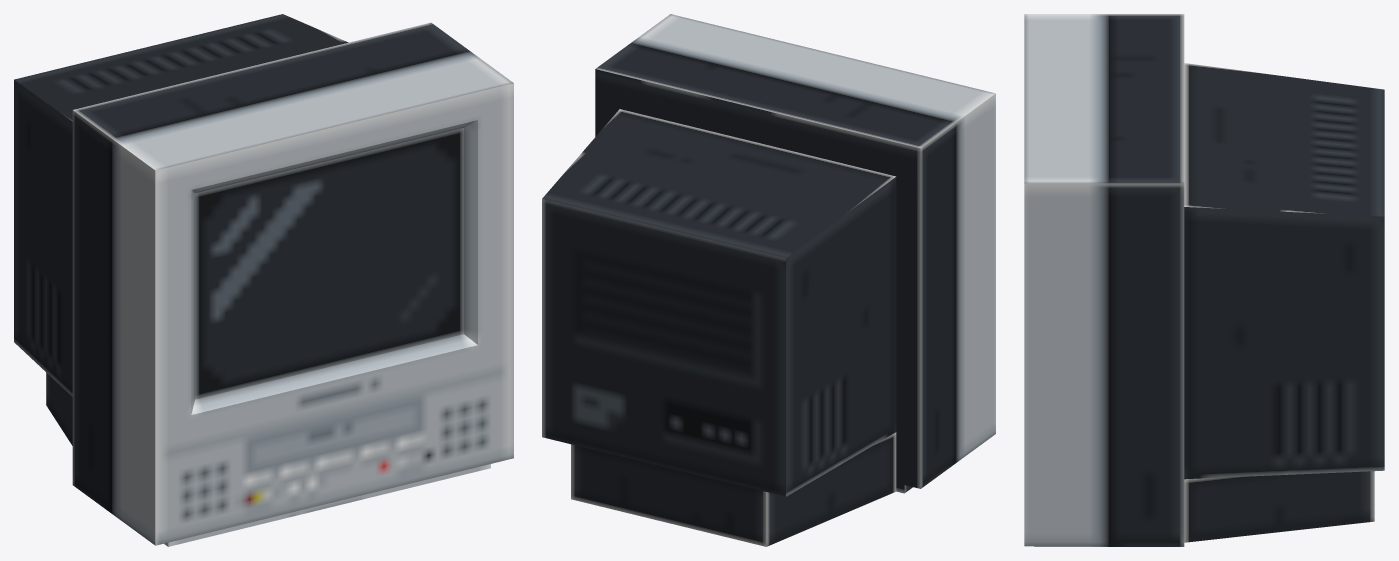
File: crt.obj
3 views of the same model, side by side, from view 1: azimuth 30°, elevation 25°; view 2: azimuth 150°, elevation 25°; view 3: azimuth 270°, elevation 25° (orthographic). The views are drawn at different scales.
Bounding box in the file's own units: 0.98 × 1 × 0.882.
